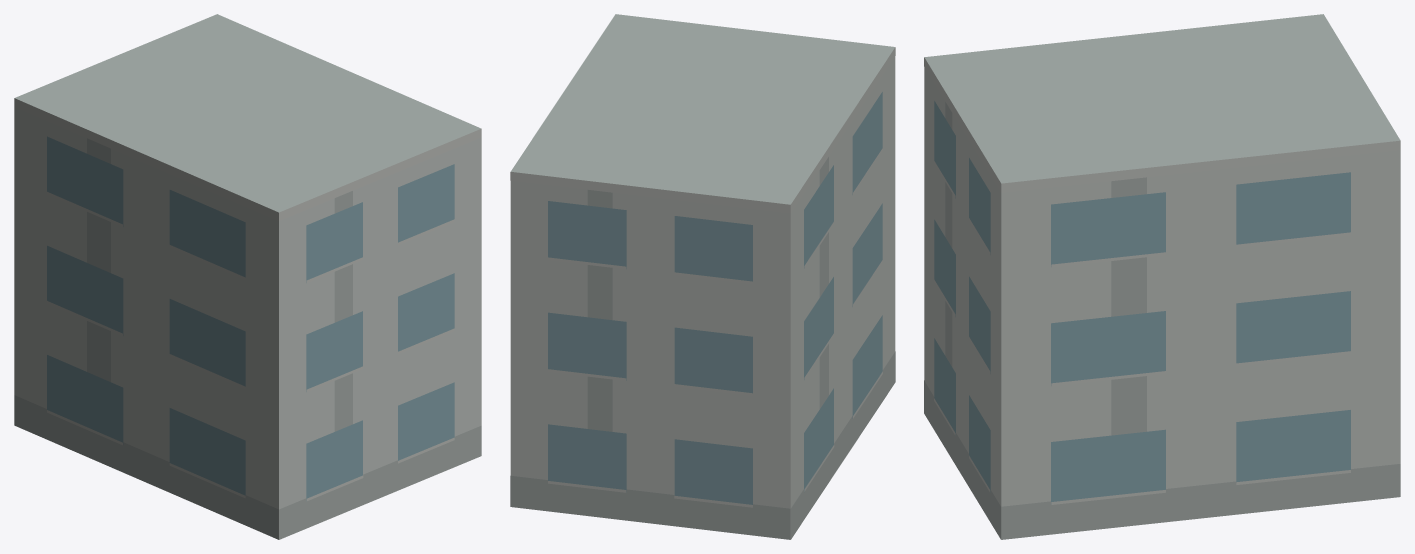
Rendered from residential-101bf3a9-3295-4031-bd84-6393d54c3aa6.glb.
3 renders of one model, left to right at view 1: azimuth 30°, elevation 25°; view 2: azimuth 150°, elevation 25°; view 3: azimuth 270°, elevation 25°, orthographic. The views are drawn at different scales.
Visible parts, largest first — view 1: residential-101bf3a9-3295-4031-bd84-6393d54c3aa6.tmp; view 2: residential-101bf3a9-3295-4031-bd84-6393d54c3aa6.tmp; view 3: residential-101bf3a9-3295-4031-bd84-6393d54c3aa6.tmp.
Part boxes in pixels (x1=…): residential-101bf3a9-3295-4031-bd84-6393d54c3aa6.tmp: x1=14, y1=14, x2=481, y2=539; residential-101bf3a9-3295-4031-bd84-6393d54c3aa6.tmp: x1=510, y1=14, x2=895, y2=539; residential-101bf3a9-3295-4031-bd84-6393d54c3aa6.tmp: x1=924, y1=14, x2=1400, y2=539.
Bounding box in the file's own units: 9.35 × 9.15 × 11.1.
